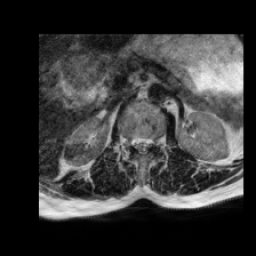CCS_normal: (140, 132, 146, 159)
LFS_normal: (153, 131, 160, 153)
LLS_normal: (146, 132, 153, 156)
RFS_normal: (125, 129, 132, 152)
RLS_normal: (132, 130, 140, 157)
